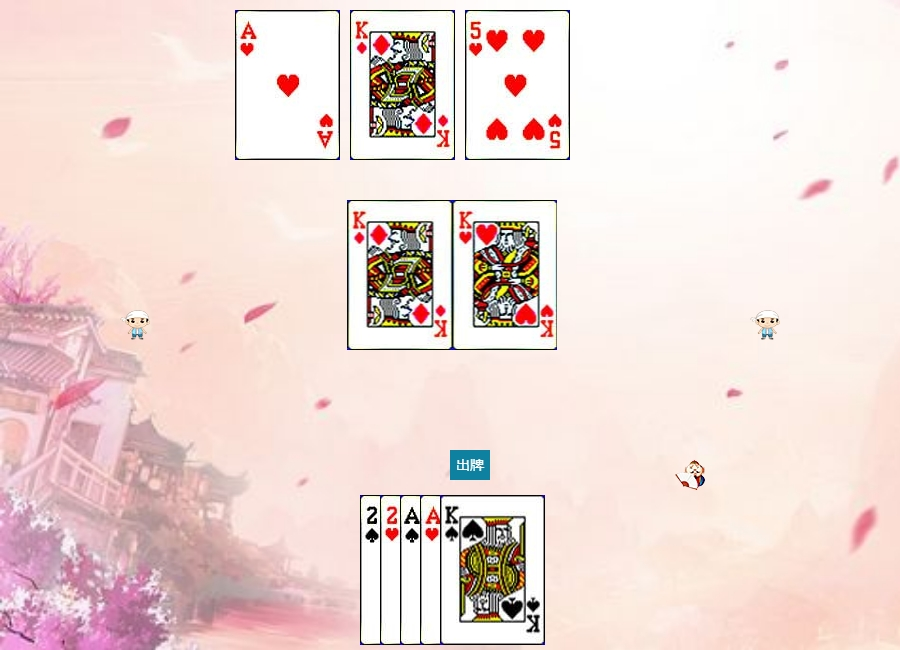13~1: (350, 10, 455, 160), (348, 200, 453, 350)
13~3: (453, 200, 558, 350)
13~4: (440, 495, 545, 645)
14~3: (235, 10, 340, 160), (420, 495, 525, 645)
14~4: (400, 495, 505, 645)
15~3: (380, 495, 485, 645)
15~4: (360, 495, 465, 645)
5~3: (465, 10, 570, 160)
